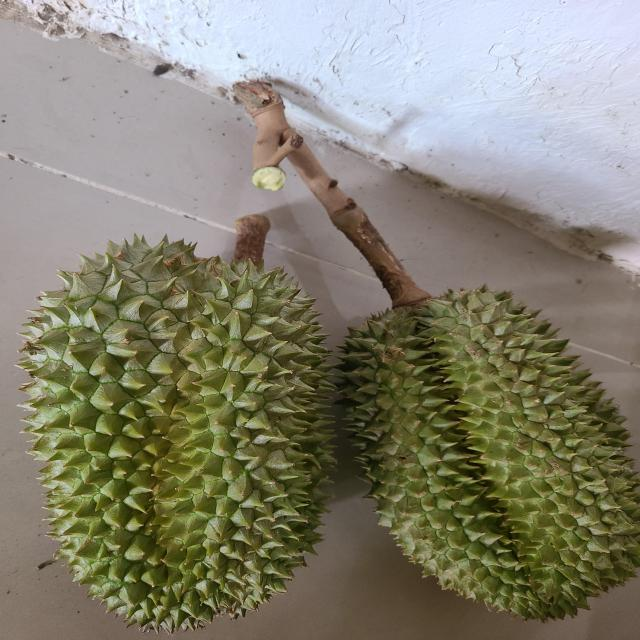immature: (16, 229, 336, 632), (319, 281, 640, 623)
